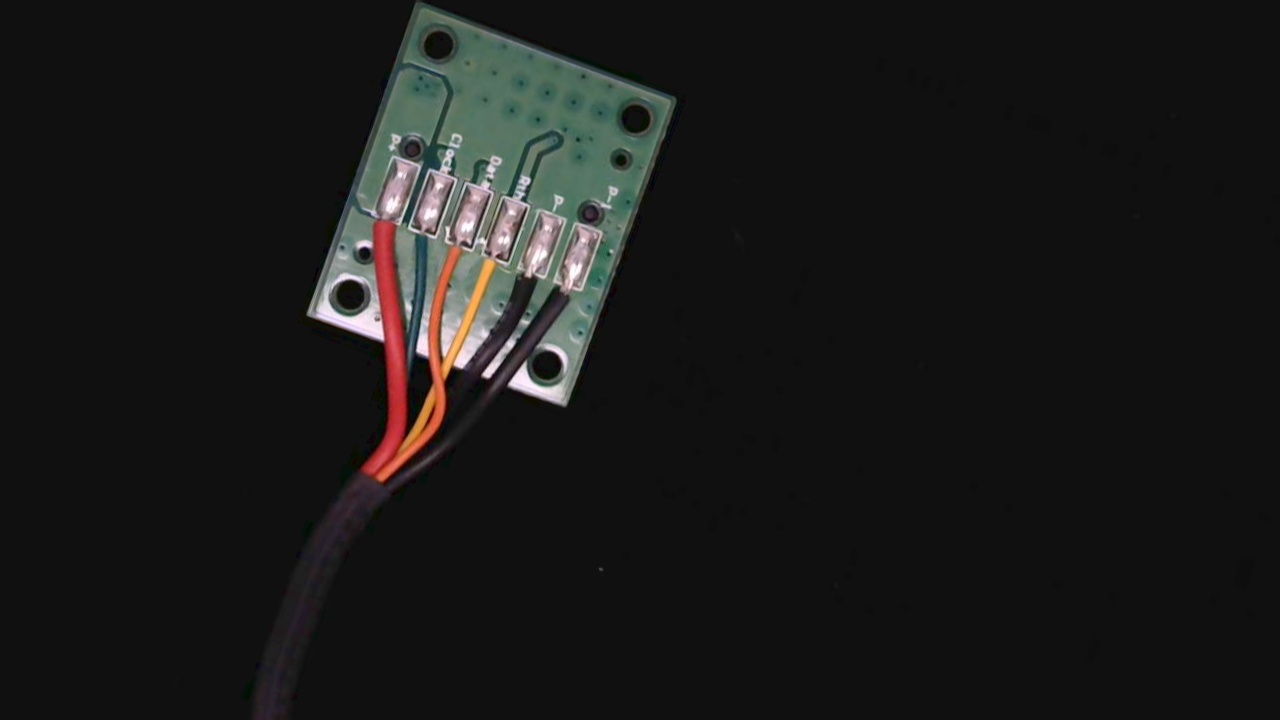Black: (492, 248, 553, 331)
Black1: (537, 263, 588, 330)
Green: (390, 211, 446, 281)
Orange: (426, 224, 477, 292)
Red: (356, 198, 407, 267)
Yellow: (462, 237, 515, 305)
